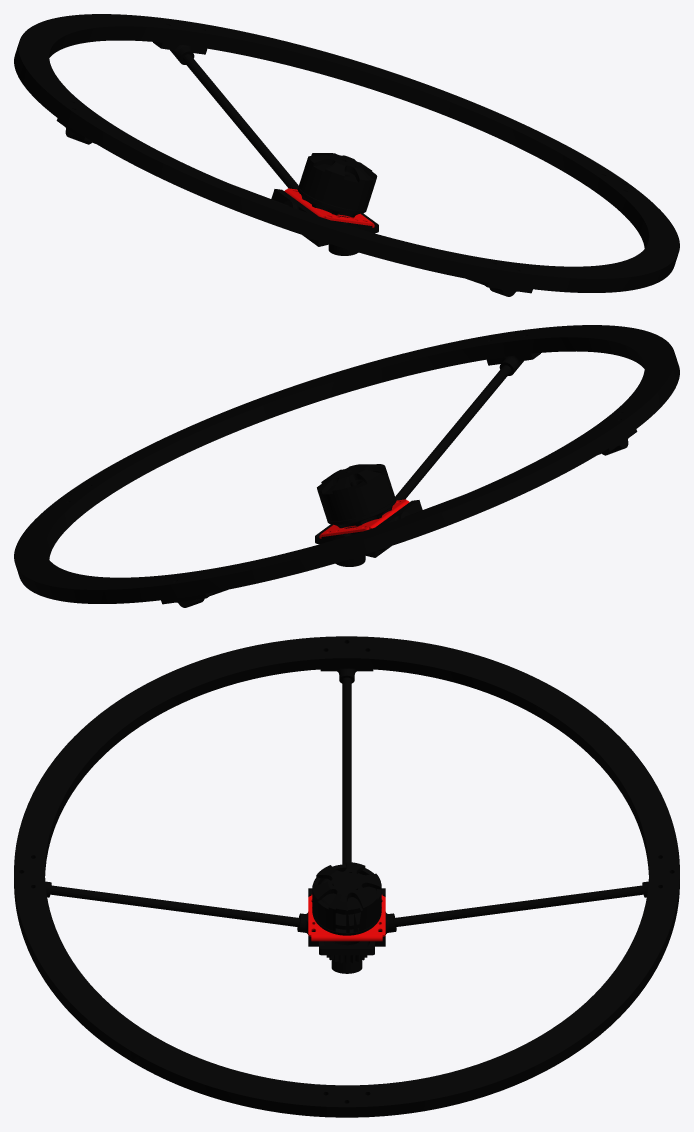
Rendered from propeller_link.dae.
3 views of the same model, one above another, from view 1: azimuth 30°, elevation 25°; view 2: azimuth 150°, elevation 25°; view 3: azimuth 270°, elevation 25° (orthographic). The views are drawn at different scales.
Parts seen in each view (by area): view 1: Propeller_Black, Propeller_Red; view 2: Propeller_Black, Propeller_Red; view 3: Propeller_Black, Propeller_Red.
Part boxes in pixels (x1,y1,x2,y2): Propeller_Black: (14,14,679,296); Propeller_Red: (284,188,374,227); Propeller_Black: (14,325,679,607); Propeller_Red: (319,499,409,538); Propeller_Black: (14,636,679,1117); Propeller_Red: (308,894,385,941).
Size of the model in its own units: 0.4073 by 0.43 by 0.156.
